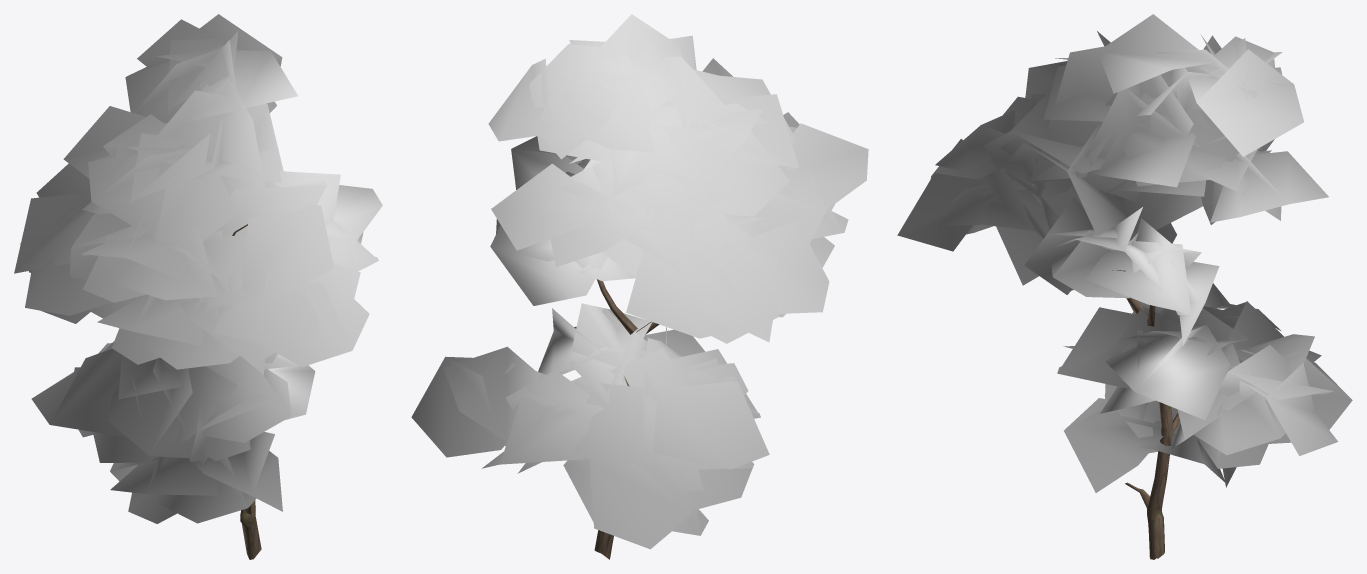
The model's file is SM_EastLands_Osmanthus_04_Trunk_B.fbx.
3 renders of one model, left to right at view 1: azimuth 30°, elevation 25°; view 2: azimuth 150°, elevation 25°; view 3: azimuth 270°, elevation 25°, orthographic. The views are drawn at different scales.
Parts seen in each view (by area): view 1: SM_EastLands_Osmanthus_04_Trunk_B_LOD0; view 2: SM_EastLands_Osmanthus_04_Trunk_B_LOD0; view 3: SM_EastLands_Osmanthus_04_Trunk_B_LOD0.
Part boxes in pixels (bbox=[...]): SM_EastLands_Osmanthus_04_Trunk_B_LOD0: bbox=[14, 14, 382, 559]; SM_EastLands_Osmanthus_04_Trunk_B_LOD0: bbox=[411, 14, 868, 559]; SM_EastLands_Osmanthus_04_Trunk_B_LOD0: bbox=[897, 14, 1352, 559].
Size of the model in its own units: 615 by 929 by 716.
